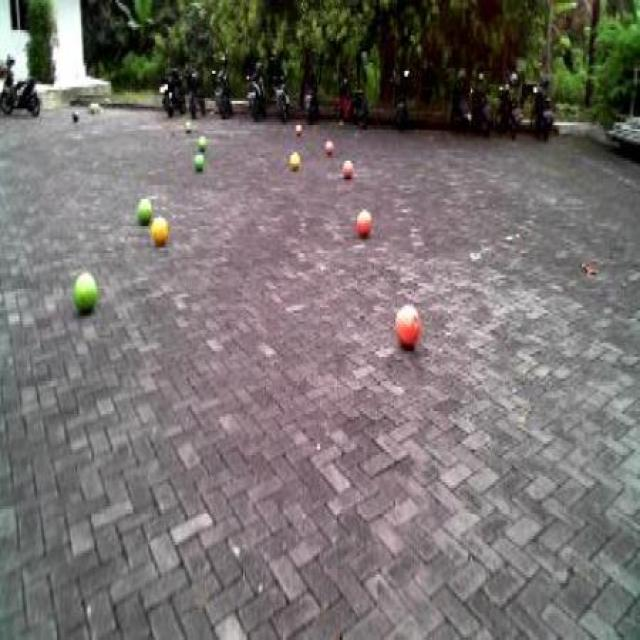buoy: (389, 298, 423, 353), (70, 265, 99, 315), (148, 207, 169, 248)
